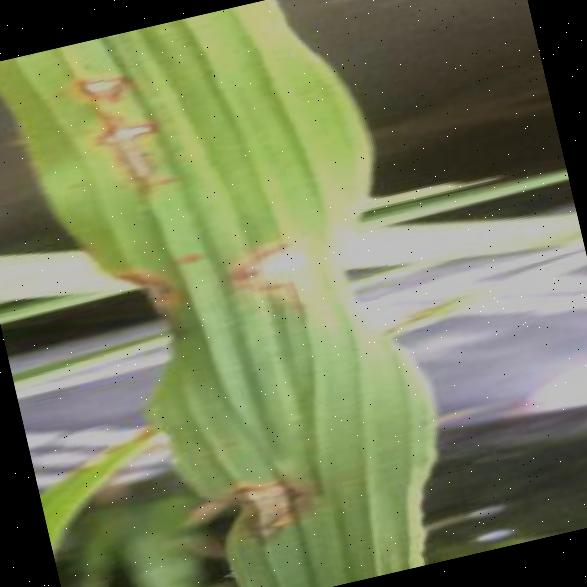Leaf_smut: (80, 212, 236, 376), (209, 182, 351, 352), (186, 418, 326, 554), (78, 97, 191, 200), (43, 40, 147, 131)
